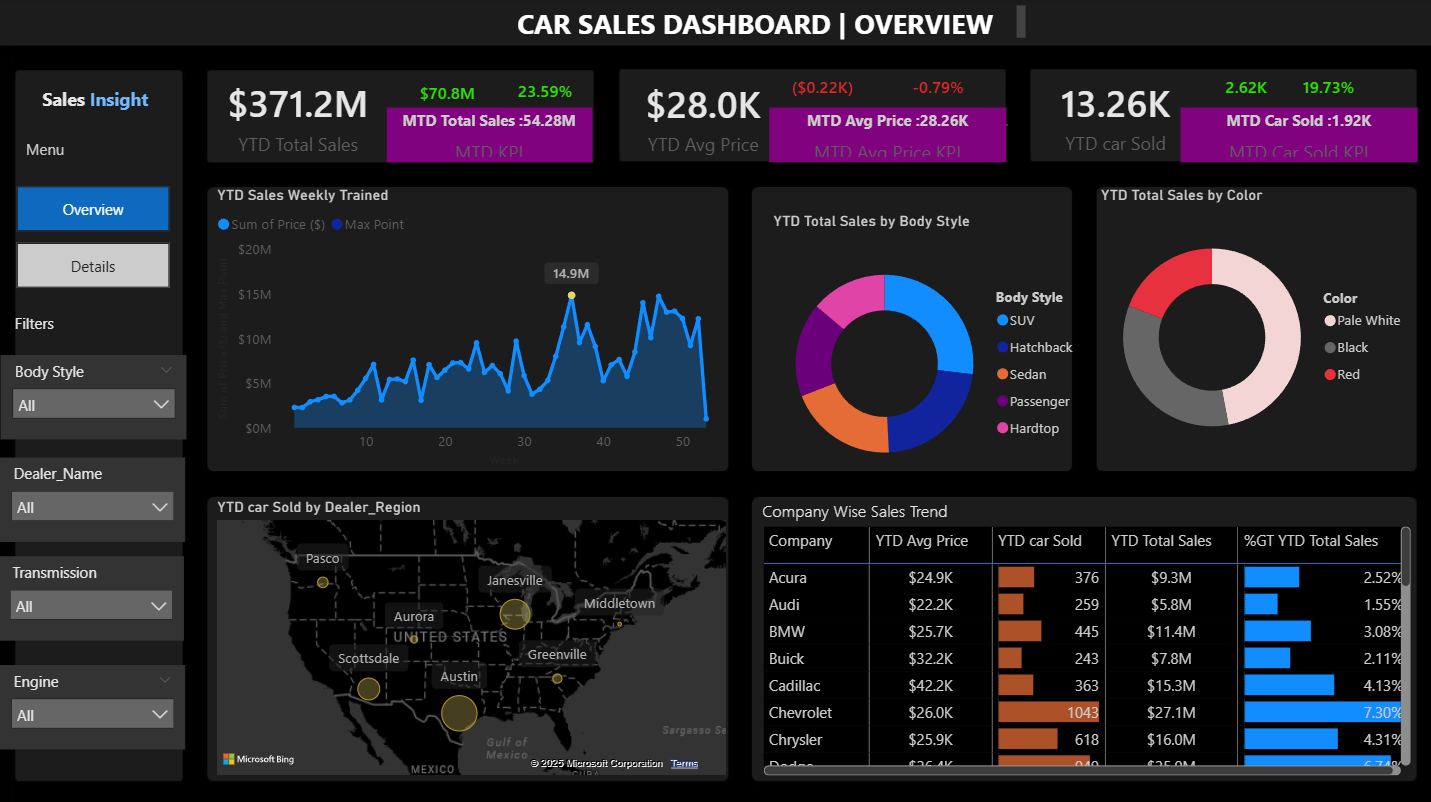

The dashboard page shown, as its layout file describes it:
{"tool":"powerbi","page":{"name":"Overview","canvas":[1280,720],"ordinal":0},"visuals":[{"type":"card","fields":{"Values":["car_data.YTD Total Sales"]},"box":[180.4,61.4,174.2,83.4],"z":0},{"type":"card","fields":{"Values":["car_data.sales diffrence"]},"box":[301.8,62.6,197.5,66.3],"z":1000},{"type":"card","fields":{"Values":["car_data.YOY Sales Growth"]},"box":[457.7,61.4,60.1,66.3],"z":2000},{"type":"card","fields":{"Values":["car_data.MTD KPI"]},"box":[346,95.7,182.8,49.1],"z":3000},{"type":"card","fields":{"Values":["car_data.YTD Avg Price"]},"box":[541.1,62.6,174.2,82.2],"z":4000},{"type":"card","fields":{"Values":["car_data.Avg Price Diff"]},"box":[640.5,61.4,189,57.7],"z":5000},{"type":"card","fields":{"Values":["car_data.YOY Avg Price Growth"]},"box":[766.9,61.4,141.1,57.7],"z":6000},{"type":"card","fields":{"Values":["car_data.MTD Avg Price KPI"]},"box":[687.1,95.7,211,49.1],"z":7000},{"type":"card","fields":{"Values":["car_data.YTD car Sold","select"]},"box":[908,61.4,174.2,82.2],"z":8000},{"type":"card","fields":{"Values":["car_data.Car Sold Diff"]},"box":[1017.2,61.4,189,57.7],"z":9000},{"type":"card","fields":{"Values":["car_data.YOY Car Sold Growth"]},"box":[1090.8,61.4,189,57.7],"z":10000},{"type":"card","fields":{"Values":["car_data.MTD Car Sold KPI"]},"box":[1052.8,95.7,211,49.1],"z":11000},{"type":"areaChart","title":"YTD Sales Weekly Trained","fields":{"Category":["Calender Table.Week"],"Y":["Sum(car_data.Price ($))","car_data.Max Point"]},"box":[190.2,165.6,462.6,255.2],"z":12000},{"type":"donutChart","fields":{"Category":["car_data.Body Style"],"Y":["car_data.YTD Total Sales"]},"box":[685.9,189,285.9,255.2],"z":13000},{"type":"donutChart","fields":{"Y":["car_data.YTD Total Sales"],"Category":["car_data.Color"]},"box":[977.9,165.6,285.9,255.2],"z":14000},{"type":"map","fields":{"Category":["car_data.Dealer_Region"],"Size":["car_data.YTD car Sold"]},"box":[190.2,444.2,462.6,251.5],"z":15000},{"type":"tableEx","title":"Company Wise Sales Trend","fields":{"Values":["car_data.Company","car_data.YTD Avg Price","car_data.YTD car Sold","car_data.YTD Total Sales1","car_data.YTD Total Sales"]},"box":[676.1,444.2,587.7,251.5],"z":16000},{"type":"textbox","box":[457.7,0,462.6,40.5],"z":17000},{"type":"slicer","fields":{"Values":["car_data.Body Style"]},"box":[2.5,316.6,165.6,74.8],"z":18000},{"type":"slicer","fields":{"Values":["car_data.Dealer_Name"]},"box":[1.2,407.4,165.6,74.8],"z":19000},{"type":"slicer","fields":{"Values":["car_data.Transmission"]},"box":[0,495.7,165.6,74.8],"z":20000},{"type":"slicer","fields":{"Values":["car_data.Engine"]},"box":[1.2,592.6,165.6,74.8],"z":21000},{"type":"textbox","box":[9.8,273.6,165.6,38],"z":22000},{"type":"pageNavigator","box":[17.2,165.6,136.2,90.8],"z":23000},{"type":"textbox","box":[34.4,72.4,117.8,46.6],"z":24000},{"type":"textbox","box":[19.6,119,66.3,50.3],"z":25000}]}

Visuals, with their boxes in screenshot pixels (x1, y1, x2, y2), scaled from the page's 1280x720 canvas onto the 1431x802 screenshot:
card - car_data.YTD Total Sales: crop(202, 68, 396, 161)
card - car_data.sales diffrence: crop(337, 70, 558, 144)
card - car_data.YOY Sales Growth: crop(512, 68, 579, 142)
card - car_data.MTD KPI: crop(387, 107, 591, 161)
card - car_data.YTD Avg Price: crop(605, 70, 800, 161)
card - car_data.Avg Price Diff: crop(716, 68, 927, 133)
card - car_data.YOY Avg Price Growth: crop(857, 68, 1015, 133)
card - car_data.MTD Avg Price KPI: crop(768, 107, 1004, 161)
card - car_data.YTD car Sold x select: crop(1015, 68, 1210, 160)
card - car_data.Car Sold Diff: crop(1137, 68, 1348, 133)
card - car_data.YOY Car Sold Growth: crop(1219, 68, 1430, 133)
card - car_data.MTD Car Sold KPI: crop(1177, 107, 1413, 161)
"YTD Sales Weekly Trained" areaChart: crop(213, 184, 730, 469)
donutChart - car_data.Body Style x car_data.YTD Total Sales: crop(767, 211, 1086, 495)
donutChart - car_data.YTD Total Sales x car_data.Color: crop(1093, 184, 1413, 469)
map - car_data.Dealer_Region x car_data.YTD car Sold: crop(213, 495, 730, 775)
"Company Wise Sales Trend" tableEx: crop(756, 495, 1413, 775)
textbox: crop(512, 0, 1029, 45)
slicer - car_data.Body Style: crop(3, 353, 188, 436)
slicer - car_data.Dealer_Name: crop(1, 454, 186, 537)
slicer - car_data.Transmission: crop(0, 552, 185, 635)
slicer - car_data.Engine: crop(1, 660, 186, 743)
textbox: crop(11, 305, 196, 347)
pageNavigator: crop(19, 184, 171, 286)
textbox: crop(38, 81, 170, 133)
textbox: crop(22, 133, 96, 189)
